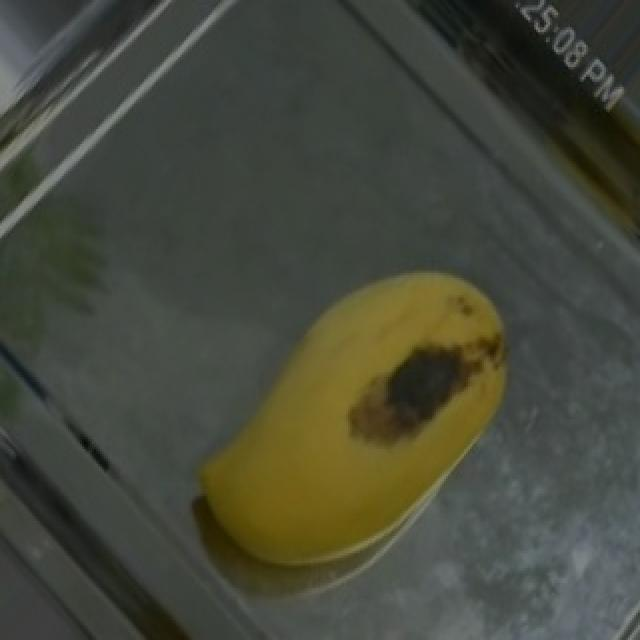fruit: (154, 248, 538, 623)
